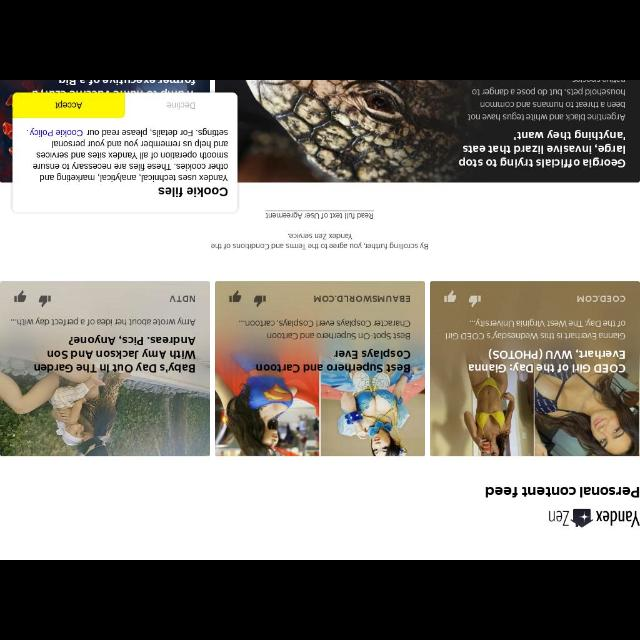icon: (38, 292, 54, 308), (442, 289, 458, 305), (12, 290, 28, 304), (228, 290, 242, 304), (252, 294, 266, 306), (468, 296, 482, 306)
image: (2, 332, 208, 456), (217, 81, 458, 183), (430, 346, 638, 456), (216, 348, 424, 457), (548, 509, 638, 528)
text: (25, 126, 228, 184), (459, 132, 625, 170), (467, 82, 625, 121), (444, 317, 626, 341), (210, 230, 428, 250), (240, 318, 410, 339), (12, 316, 196, 328), (486, 486, 638, 499), (315, 293, 411, 303), (158, 186, 226, 198), (264, 212, 374, 218), (577, 292, 625, 302), (169, 292, 197, 304), (166, 100, 198, 110), (56, 101, 82, 109)
textbutton: (12, 92, 124, 118)
